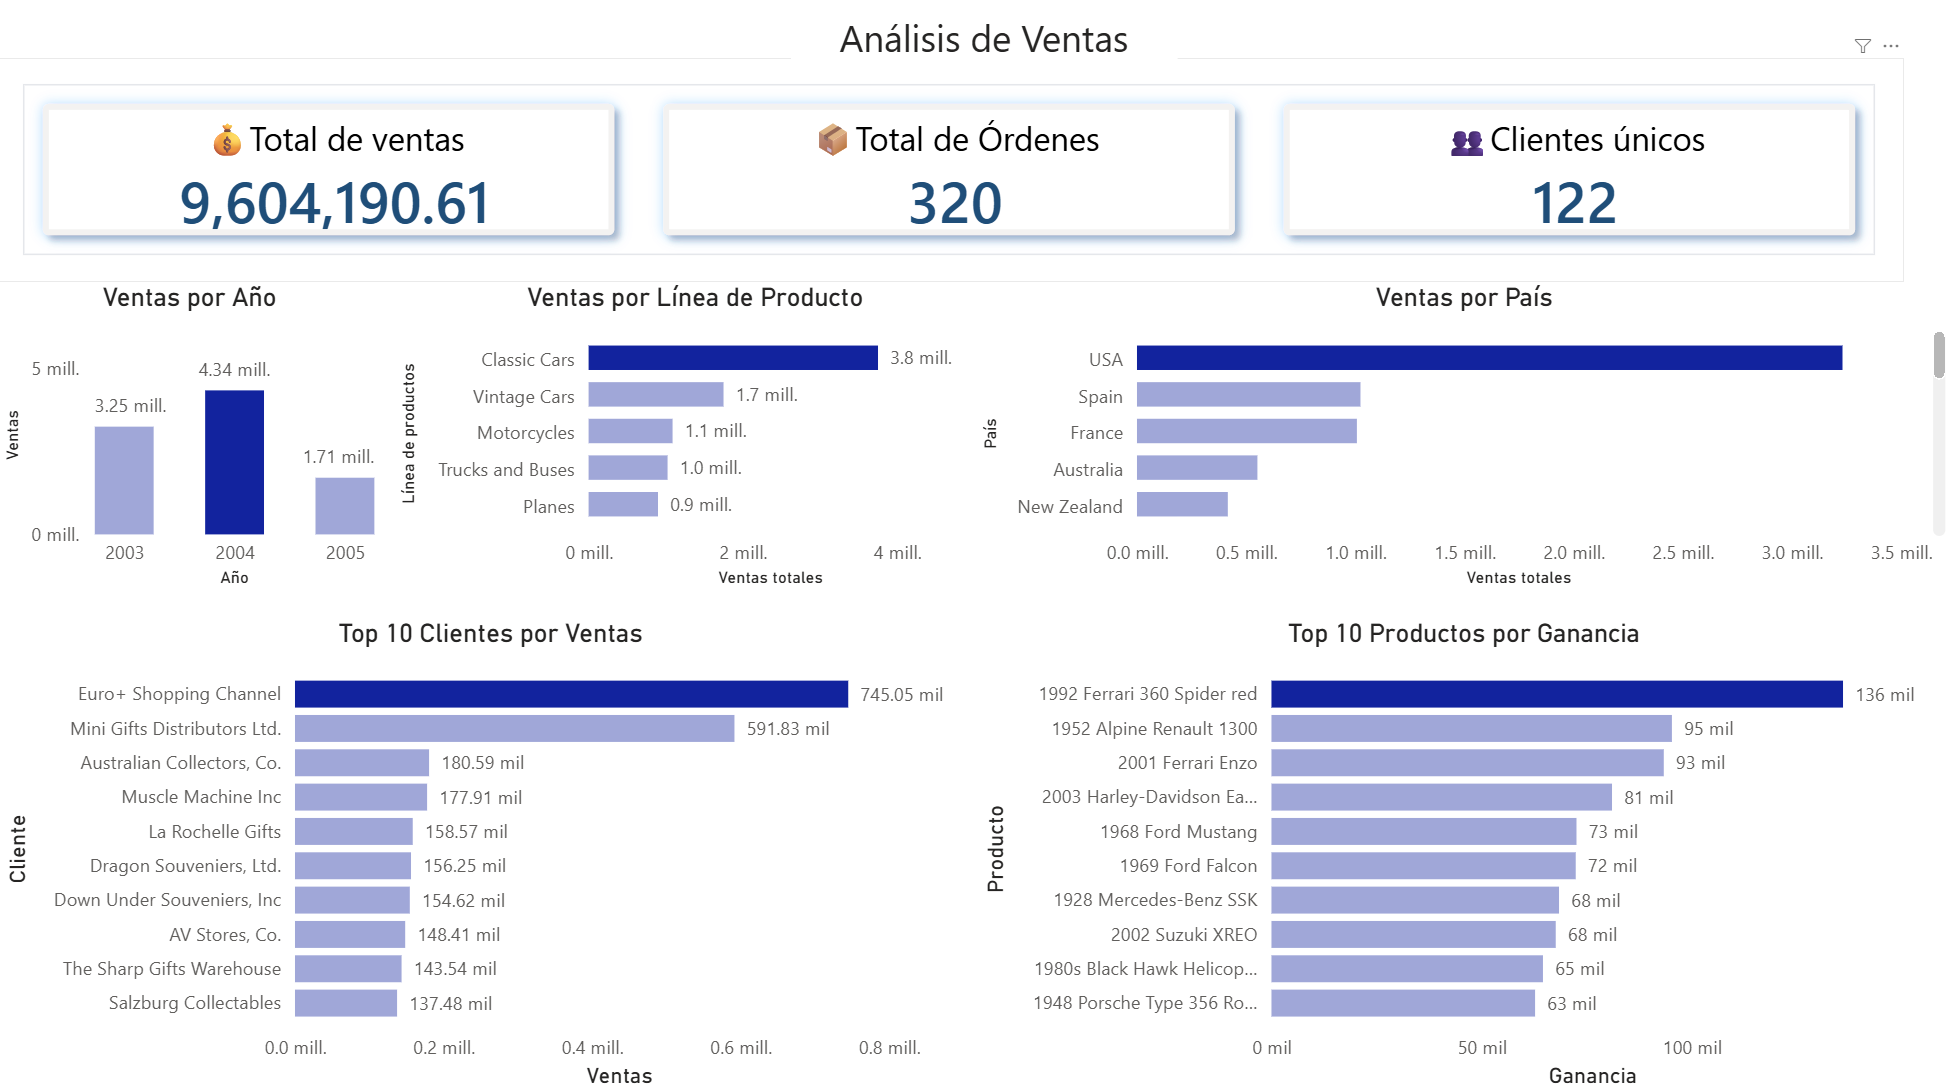

What the dashboard file says about the page in this screenshot:
{"tool":"powerbi","page":{"name":"Página 1","canvas":[1280,720],"ordinal":0},"visuals":[{"type":"lineStackedColumnComboChart","fields":{"Category":["Ventas por año.Año"],"Y":["Sum(Ventas por año.Total_sales)"]},"box":[0,187.8,251.9,204.2],"z":0},{"type":"barChart","title":"Ventas por Línea de Producto","fields":{"Category":["Ventas por linea de productos.productLine"],"Y":["Sum(Ventas por linea de productos.Total_sales)"]},"box":[259.1,187.8,395.3,204.2],"z":1000},{"type":"barChart","title":"Top 10 Clientes por Ventas","fields":{"Category":["top 10 compradores.customerName"],"Y":["Sum(top 10 compradores.total_de_pedido)"]},"box":[0,407.7,645.9,312.1],"z":2000},{"type":"barChart","title":"Ventas por País","fields":{"Y":["Sum(Pais con mas ventas.cantidad_por_pais)"],"Category":["Pais con mas ventas.country"]},"box":[640,187.8,640,204.2],"z":3000},{"type":"clusteredBarChart","title":"Top 10 Productos por Ganancia","fields":{"Category":["Margen por producto.productName"],"Y":["Sum(Margen por producto.Margen)"]},"box":[640,407.7,640,312.1],"z":4000},{"type":"cardVisual","fields":{"Data":["Sum(Total Revenue.total_de_ventas)","Sum(Ordenes totales.Ordenes)","Sum(Compradores.Compradores)"]},"box":[0,41.2,1247.9,146.6],"z":5000},{"type":"textbox","box":[519.6,6.5,252.6,45.8],"z":7000}]}

Visuals, with their boxes in screenshot pixels (x1, y1, x2, y2), scaled from the page's 1280x720 canvas onto the 1951x1092 screenshot:
lineStackedColumnComboChart - Ventas por año.Año x Sum(Ventas por año.Total_sales): <box>0,285,384,595</box>
"Ventas por Línea de Producto" barChart: <box>395,285,997,595</box>
"Top 10 Clientes por Ventas" barChart: <box>0,618,984,1091</box>
"Ventas por País" barChart: <box>976,285,1950,595</box>
"Top 10 Productos por Ganancia" clusteredBarChart: <box>976,618,1950,1091</box>
cardVisual - Sum(Total Revenue.total_de_ventas) x Sum(Ordenes totales.Ordenes): <box>0,62,1902,285</box>
textbox: <box>792,10,1177,79</box>
